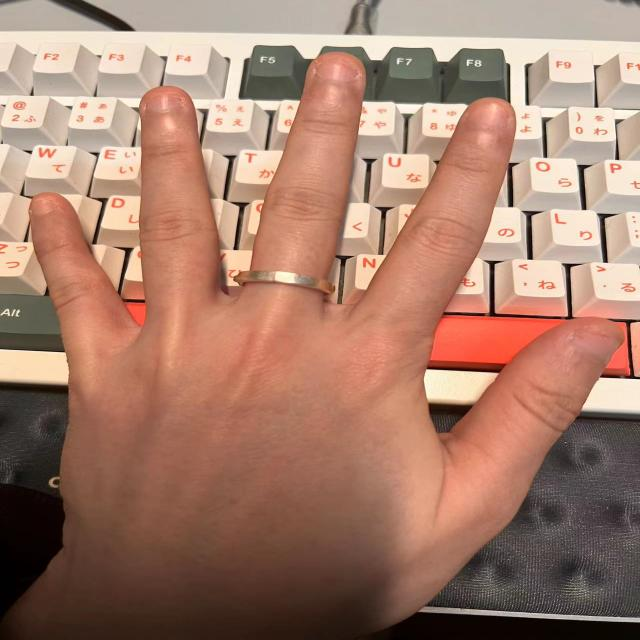Nail: (574, 330, 616, 360), (468, 103, 510, 126), (316, 60, 360, 81), (146, 95, 183, 113), (30, 197, 55, 215)
